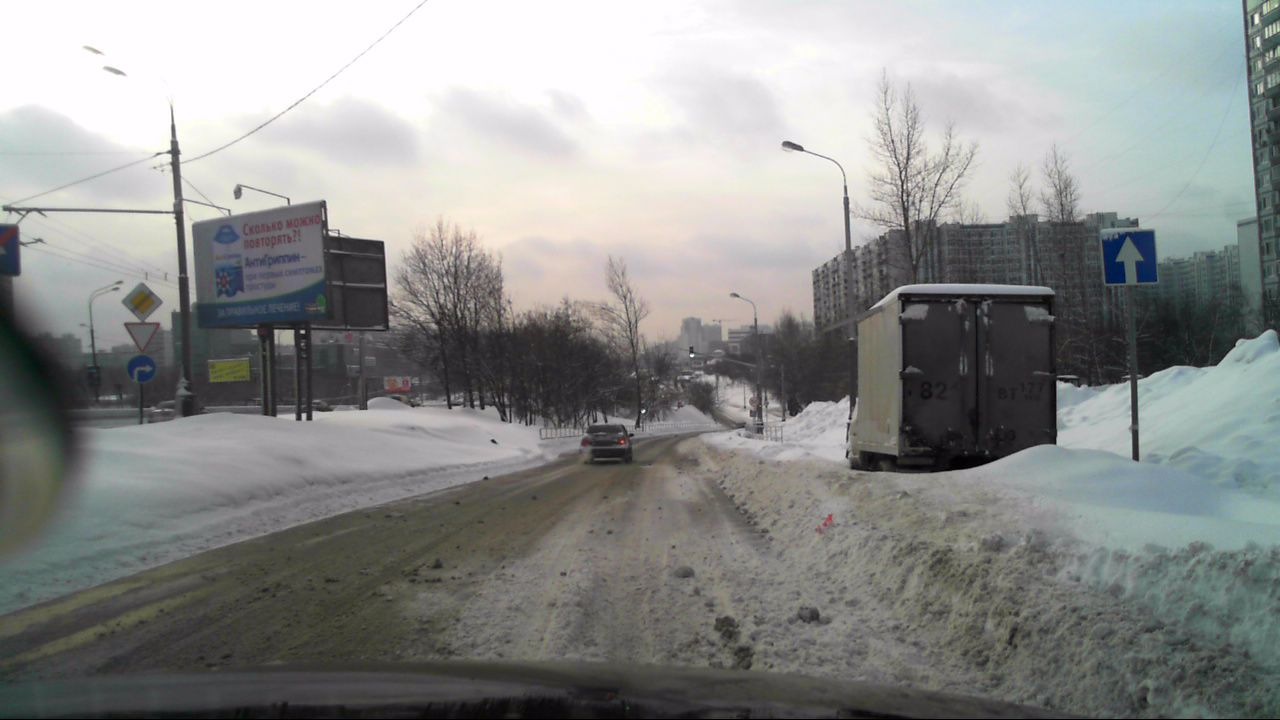main road: (121, 281, 163, 321)
